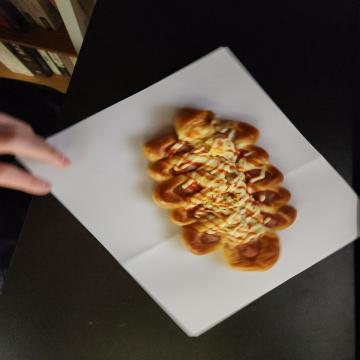pizza_bread: (107, 62, 274, 219)
